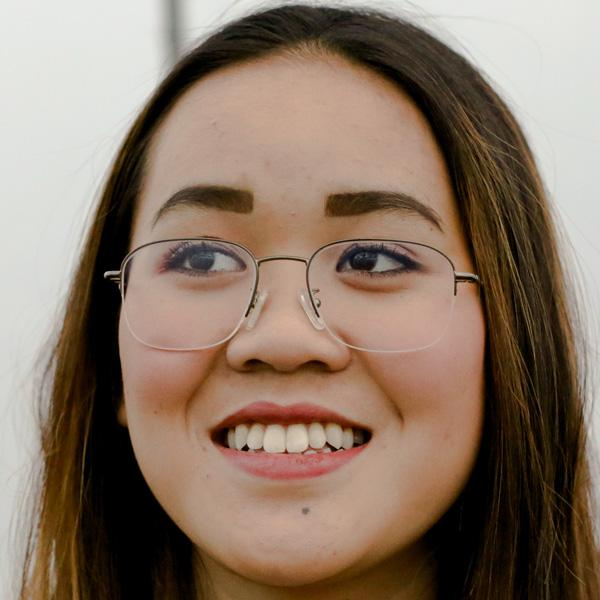Eyes: (328, 232, 426, 294), (156, 231, 255, 290)
